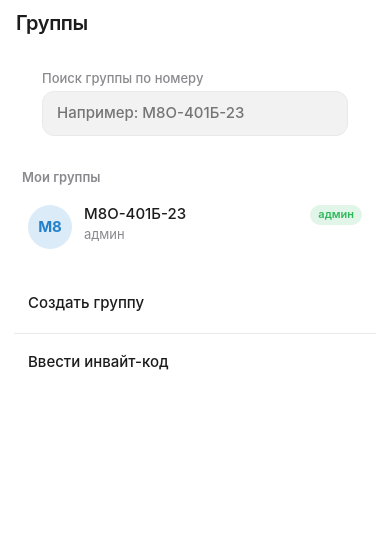
Scenario: GroupsScreen: поиск с дебаунсом › уже вступленные группы не дублируются в подсказках
Expected: the button with test id "group-42" is shown, [14,193,376,261]
Step 1. Type "М8О" into the field with test id "field-search" → (195, 114), box [42,91,348,136]
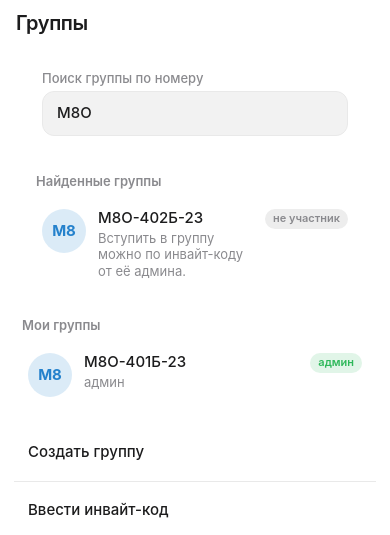
Expected: the button with test id "suggestion-100" is shown, [28,197,362,292]
